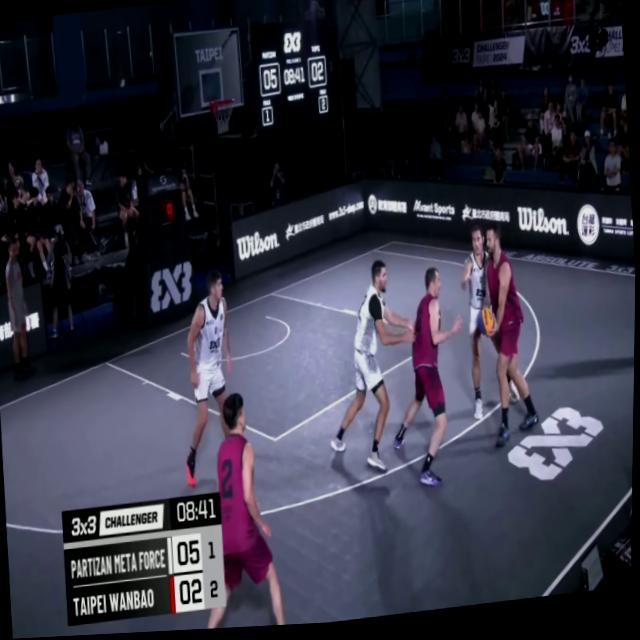ball: (474, 310, 499, 346)
hoop: (209, 95, 237, 141)
player: (176, 386, 304, 633), (319, 261, 421, 487), (388, 268, 474, 495), (473, 224, 543, 451), (172, 280, 245, 487), (458, 224, 529, 428)
